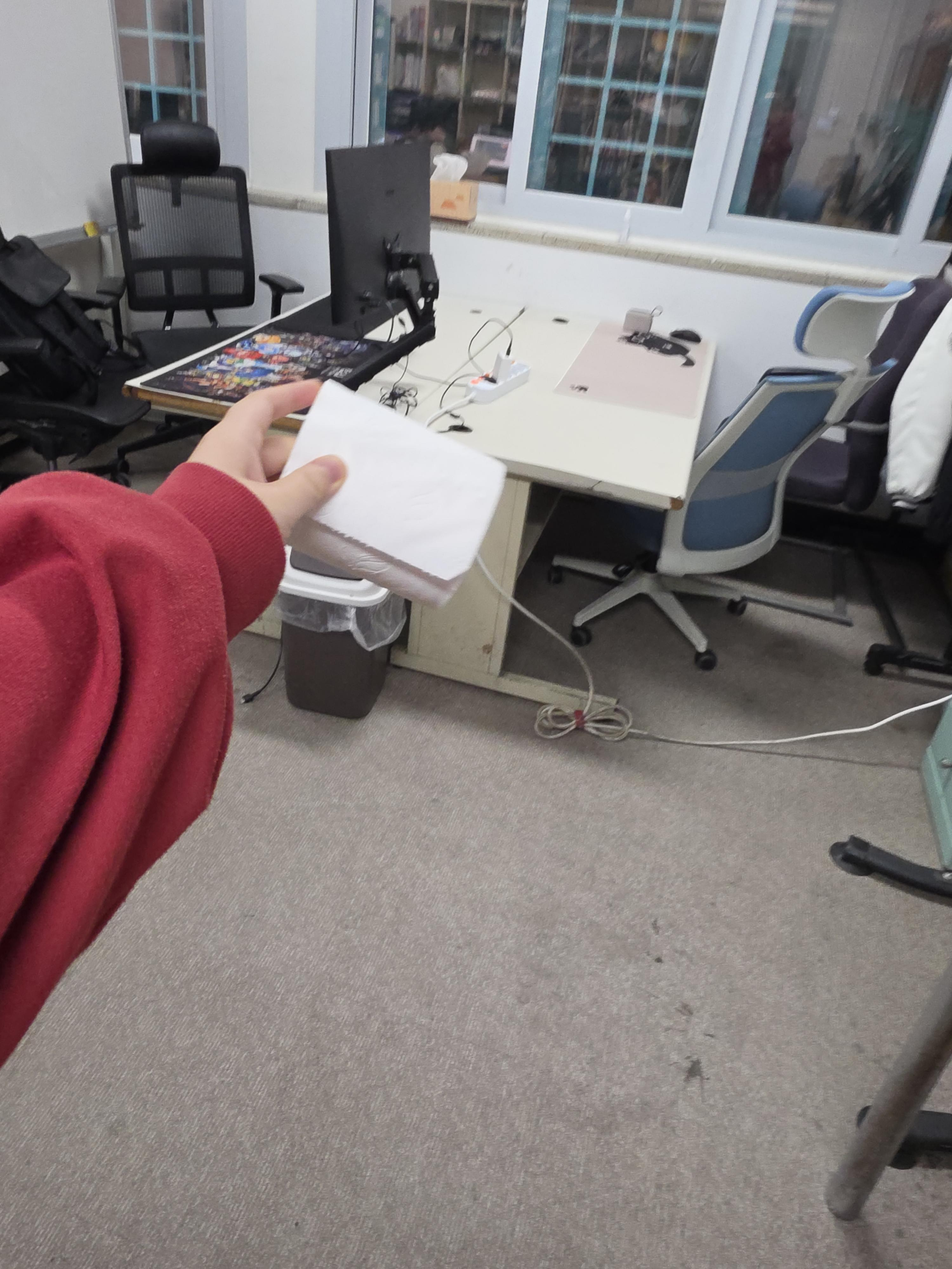tissue: (280, 378, 507, 608), (429, 153, 479, 222)
